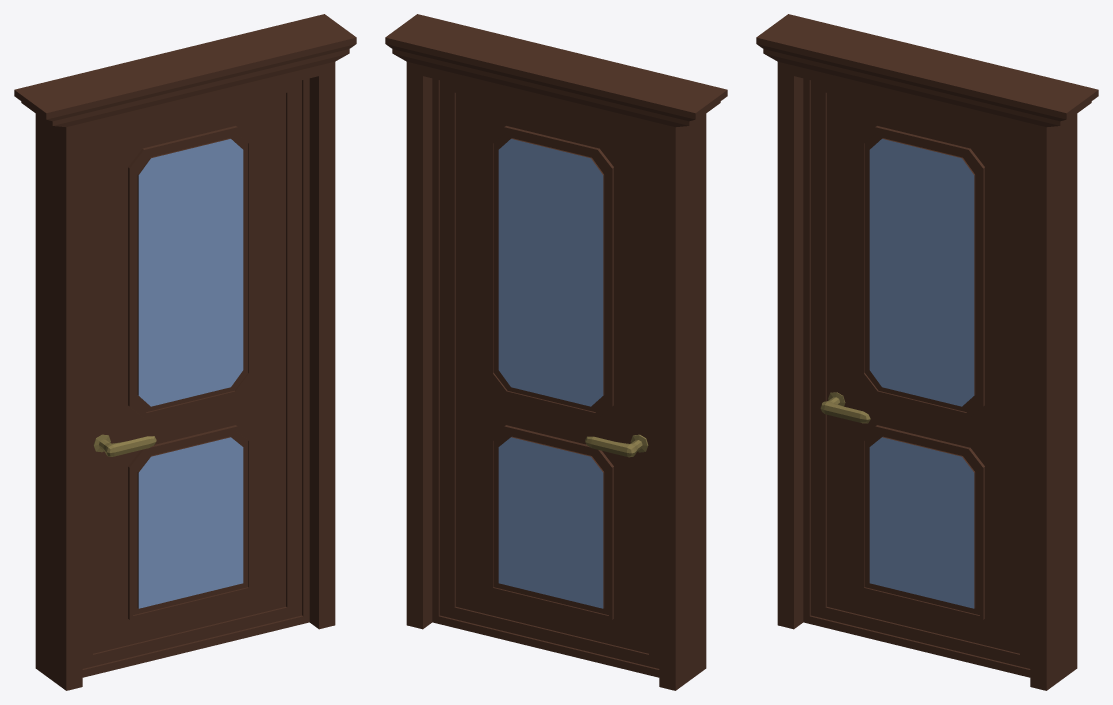
File: 2209-07-16Door2.gltf
3 views of the same model, side by side, from view 1: azimuth 30°, elevation 25°; view 2: azimuth 150°, elevation 25°; view 3: azimuth 330°, elevation 25° (orthographic).
Visible parts, largest first — view 1: Door, DoorFrame, DoorHandle; view 2: Door, DoorFrame, DoorHandle; view 3: Door, DoorFrame, DoorHandle.
Boxes of the visible parts, left/top/right/bottom form: Door: left=82, top=78, right=309, bottom=677; DoorFrame: left=14, top=14, right=356, bottom=690; DoorHandle: left=93, top=434, right=156, bottom=456; Door: left=432, top=78, right=659, bottom=677; DoorFrame: left=385, top=14, right=727, bottom=690; DoorHandle: left=585, top=434, right=648, bottom=457; Door: left=803, top=78, right=1030, bottom=677; DoorFrame: left=756, top=14, right=1098, bottom=690; DoorHandle: left=820, top=392, right=870, bottom=423.
Bounding box in the file's own units: 1.75 × 3.14 × 0.3199.
